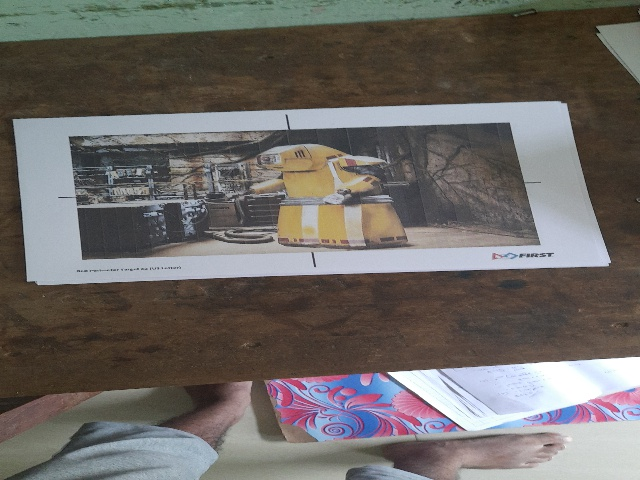rpt2: (60, 128, 567, 278)
